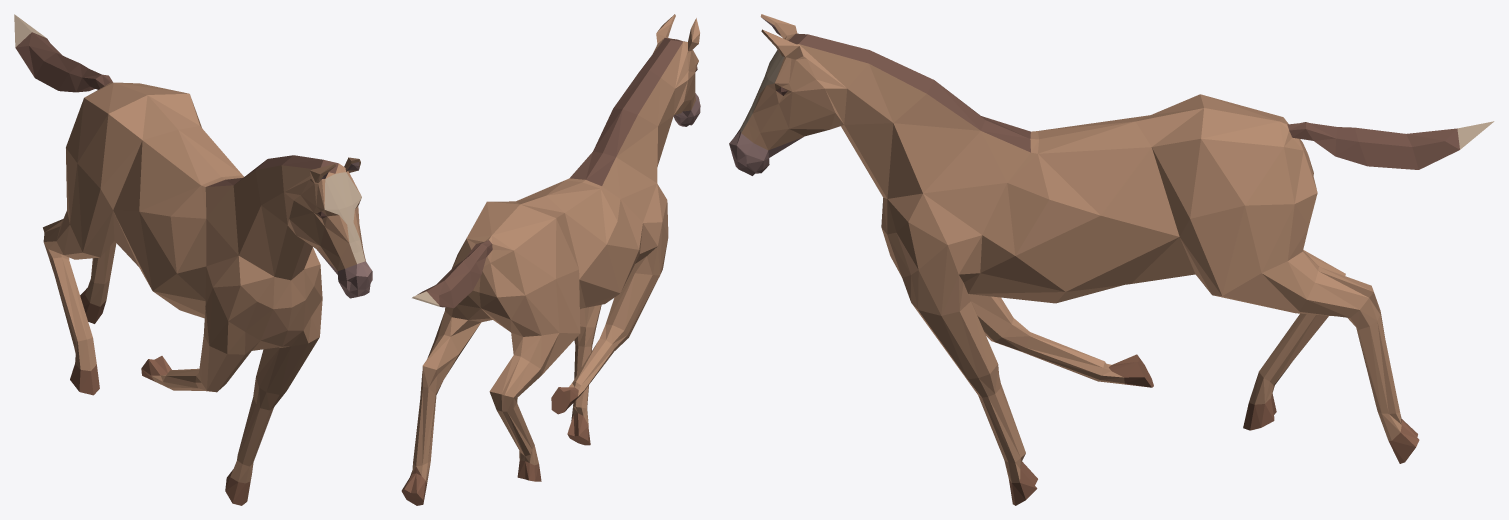
File: Horse.glb
The picture shows the model from 3 angles, left to right: view 1: azimuth 30°, elevation 25°; view 2: azimuth 150°, elevation 25°; view 3: azimuth 270°, elevation 25°; orthographic projection. The views are drawn at different scales.
Parts seen in each view (by area): view 1: mesh_0; view 2: mesh_0; view 3: mesh_0.
Boxes of the visible parts, bbox=[...] form: mesh_0: bbox=[14, 14, 372, 505]; mesh_0: bbox=[401, 14, 700, 505]; mesh_0: bbox=[729, 14, 1494, 505].
Size of the model in its own units: 65.99 by 200 by 289.
